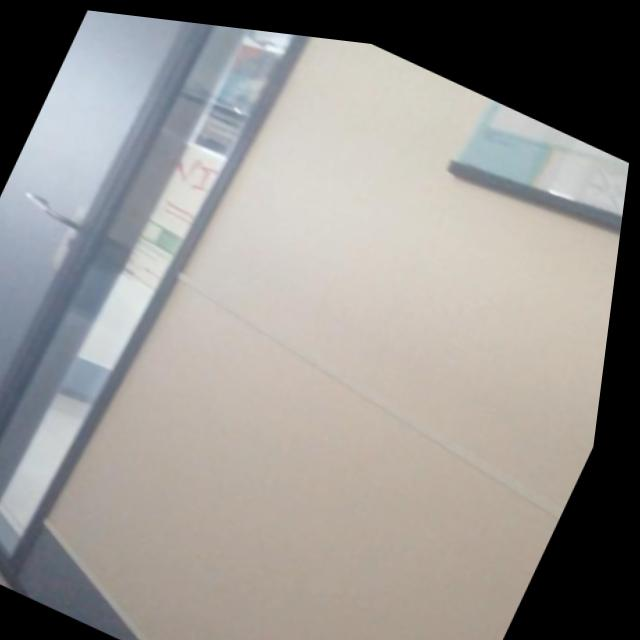door_handle: (17, 182, 104, 235)
